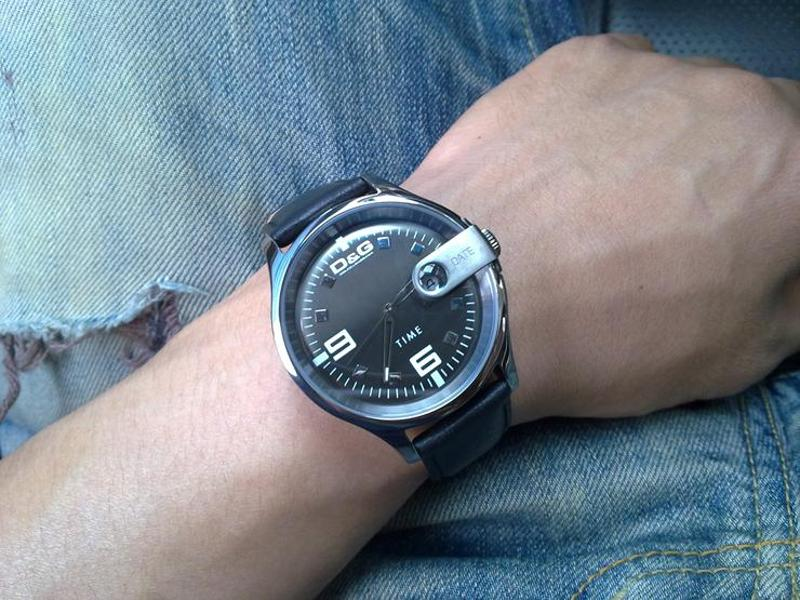watch: (256, 173, 519, 477)
